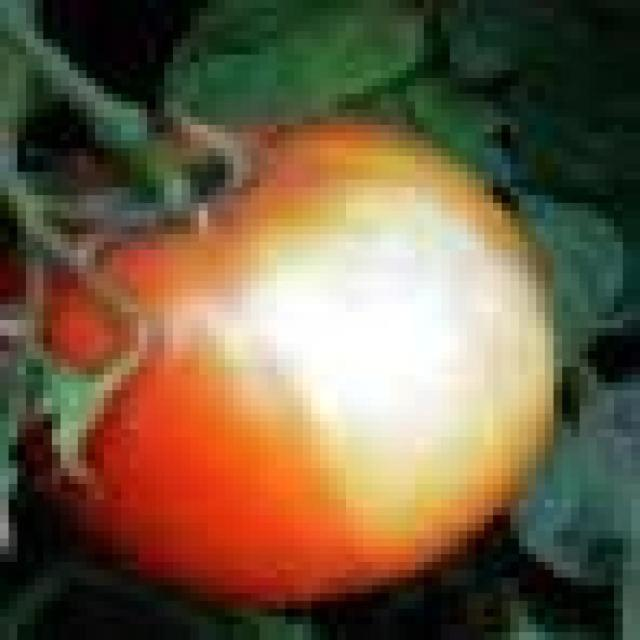Sunscald Fruit: (107, 104, 361, 354)
